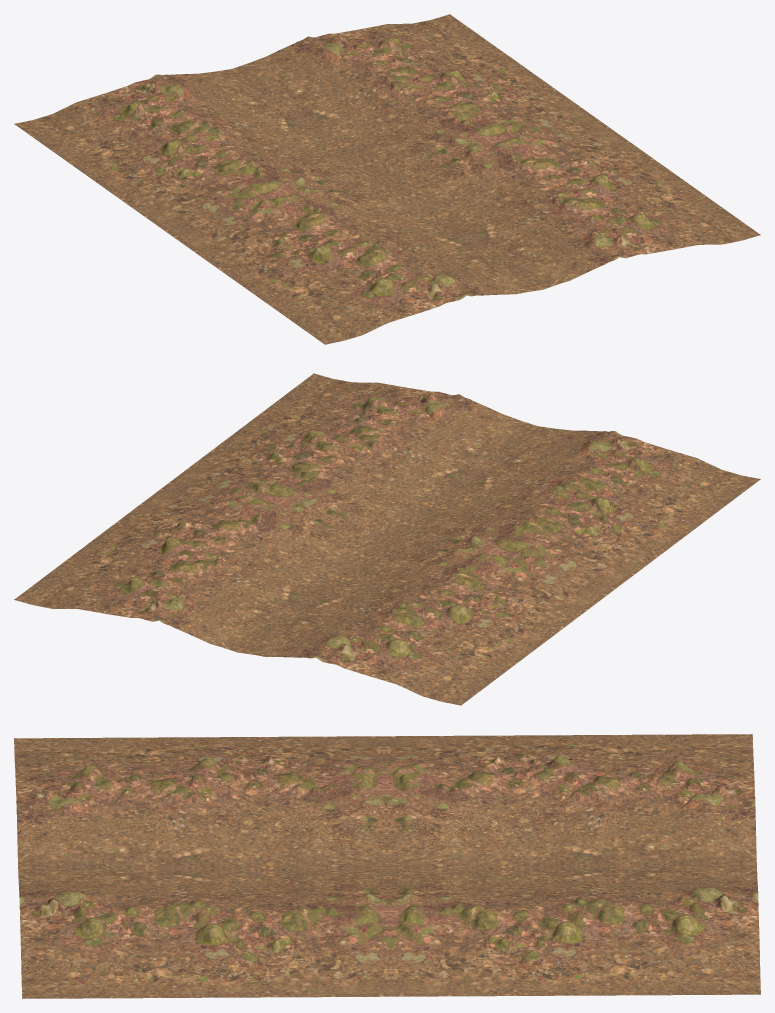
File: ground.glb
3 renders of one model, top to bottom at view 1: azimuth 30°, elevation 25°; view 2: azimuth 150°, elevation 25°; view 3: azimuth 270°, elevation 25°, orthographic. The views are drawn at different scales.
Visible parts, largest first — view 1: Plane.001; view 2: Plane.001; view 3: Plane.001.
Boxes of the visible parts, x1,y1,x2,y2 form: Plane.001: (14,14,760,344); Plane.001: (14,373,760,705); Plane.001: (14,734,760,998).
Size of the model in its own units: 14.66 by 0.7324 by 17.49.
Materials: 1 (1 with a texture image).
